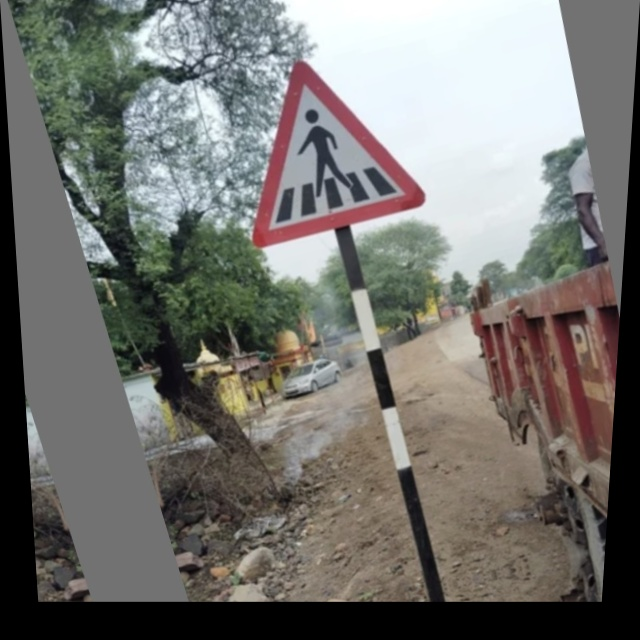Pedestrian_Crossing: (212, 37, 442, 253)
